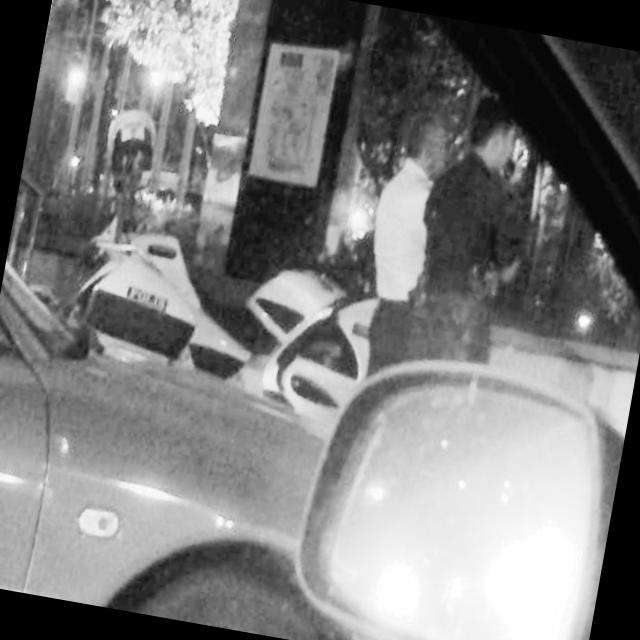Car: (0, 235, 413, 640)
Motorcycle: (58, 90, 400, 430)
Person: (398, 80, 546, 393), (351, 105, 469, 379)
